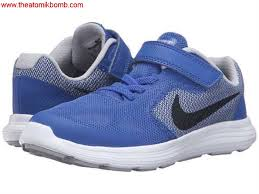nike: (158, 70, 259, 162)
